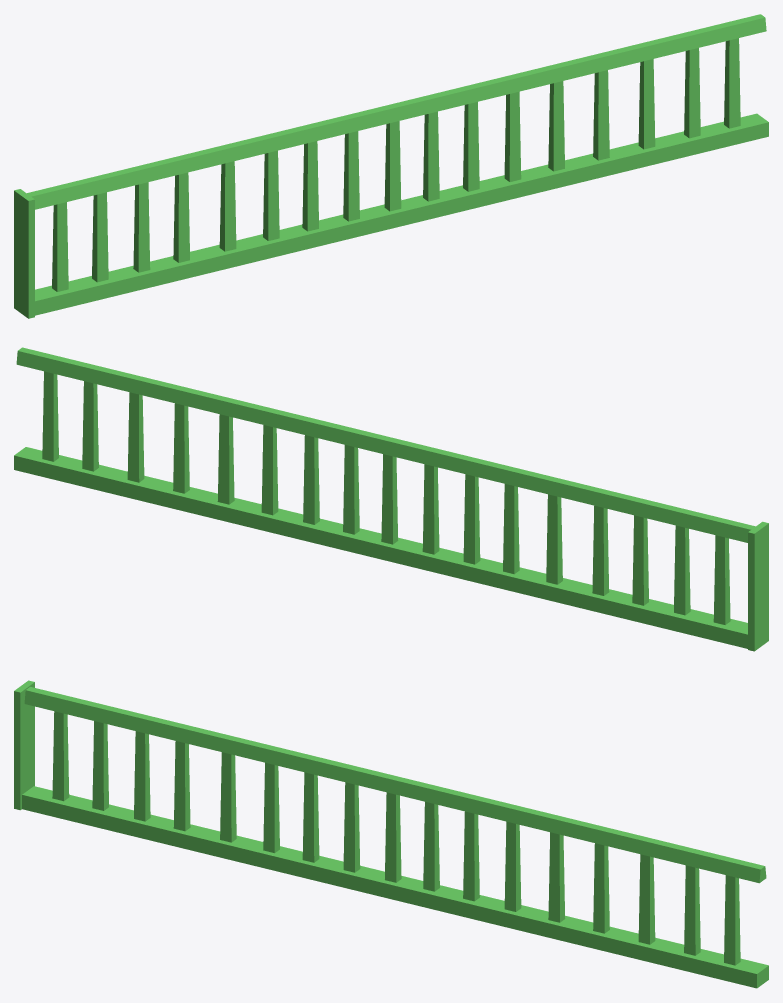
The model's file is Gen_Handrail_Mid_2x.fbx.
3 views of the same model, one above another, from view 1: azimuth 30°, elevation 25°; view 2: azimuth 150°, elevation 25°; view 3: azimuth 330°, elevation 25° (orthographic).
Parts seen in each view (by area): view 1: Gen_Handrail_Mid_2x; view 2: Gen_Handrail_Mid_2x; view 3: Gen_Handrail_Mid_2x.
Part boxes in pixels (x1=…): Gen_Handrail_Mid_2x: x1=14, y1=14, x2=768, y2=318; Gen_Handrail_Mid_2x: x1=14, y1=347, x2=768, y2=651; Gen_Handrail_Mid_2x: x1=14, y1=680, x2=768, y2=988.
Bounding box in the file's own units: 600 × 91.04 × 20.31.
